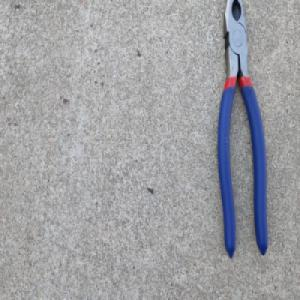Pliers: (216, 0, 270, 258)
